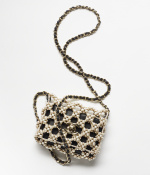channel: (27, 81, 114, 165), (78, 69, 111, 110)
